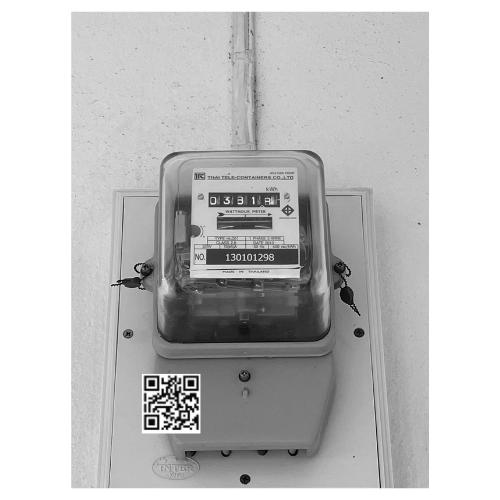qr_code: (140, 375, 203, 435)
